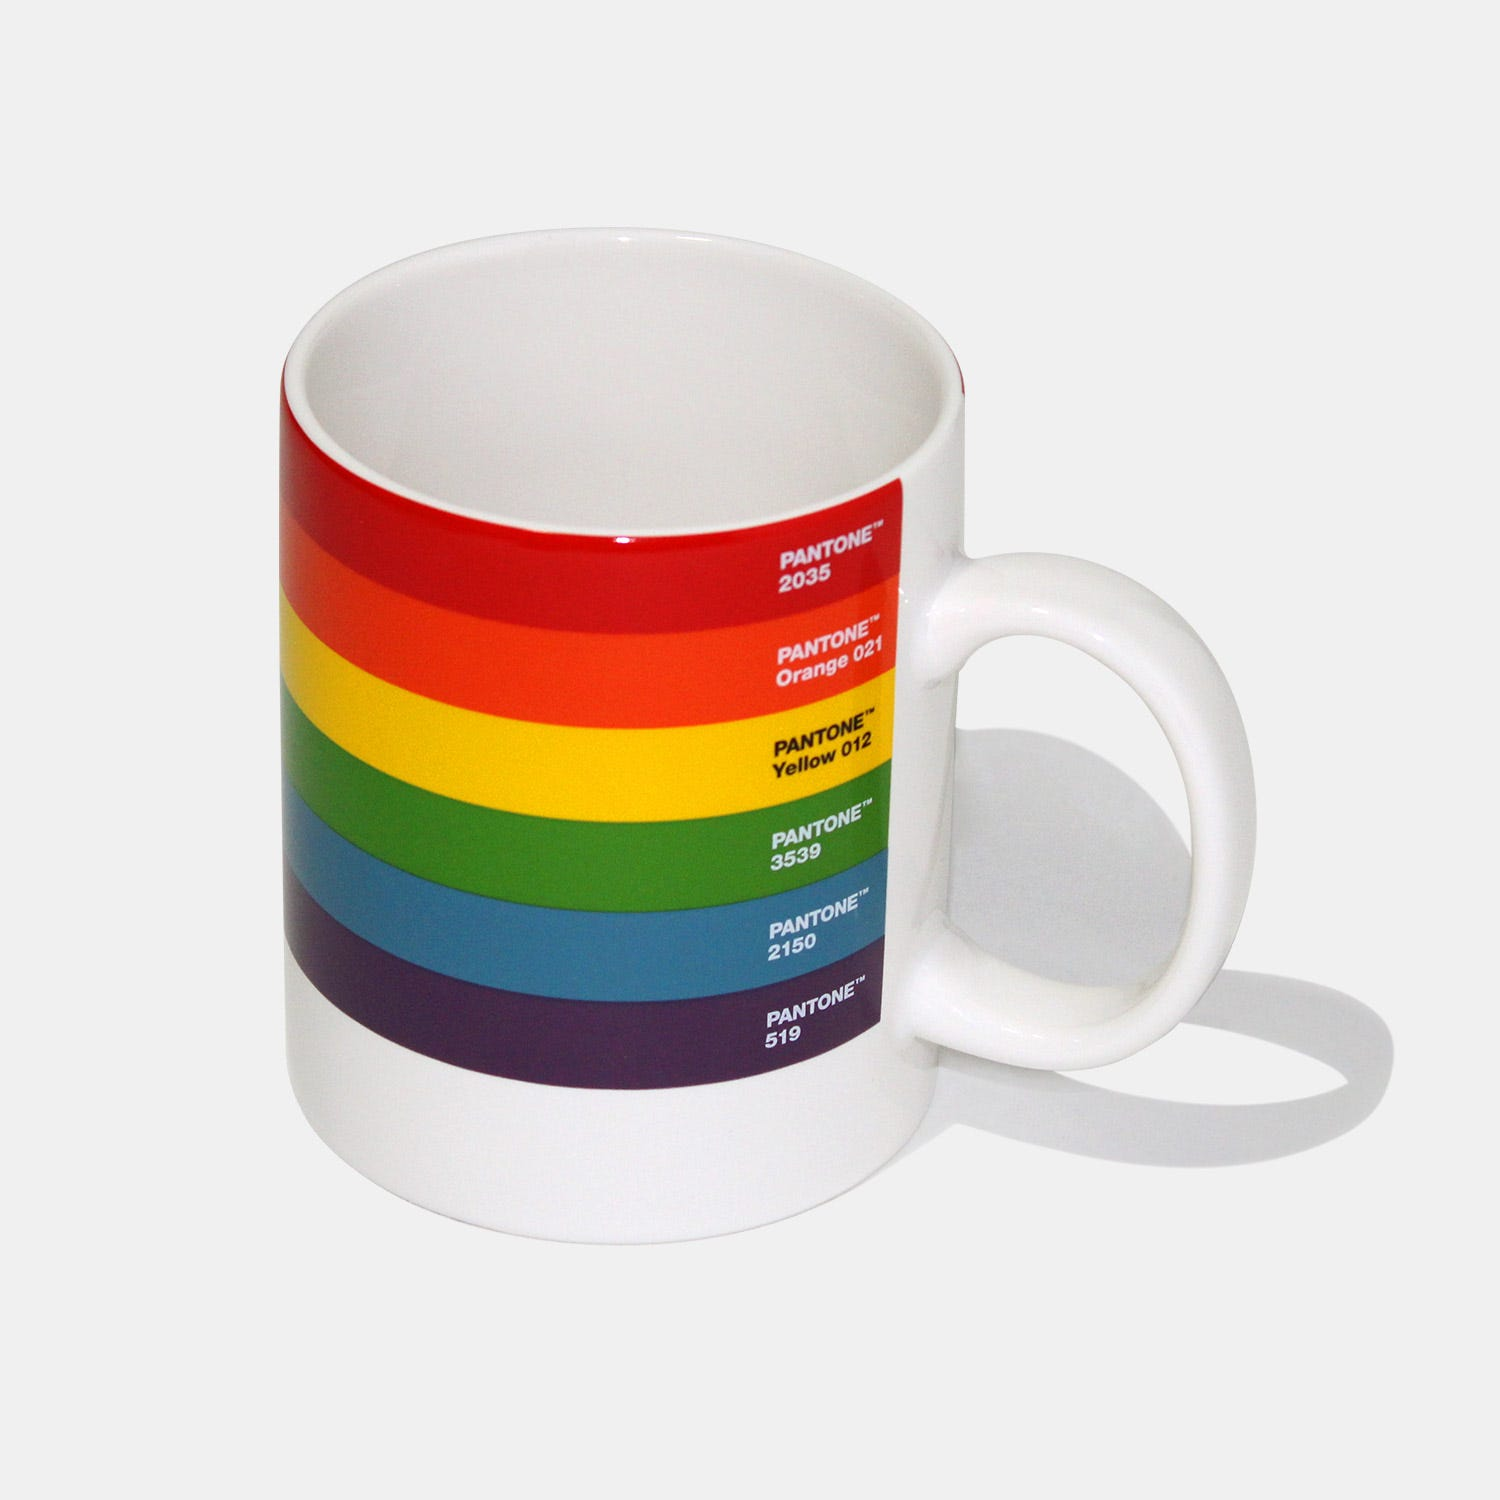gelas: (240, 232, 1262, 1295)
